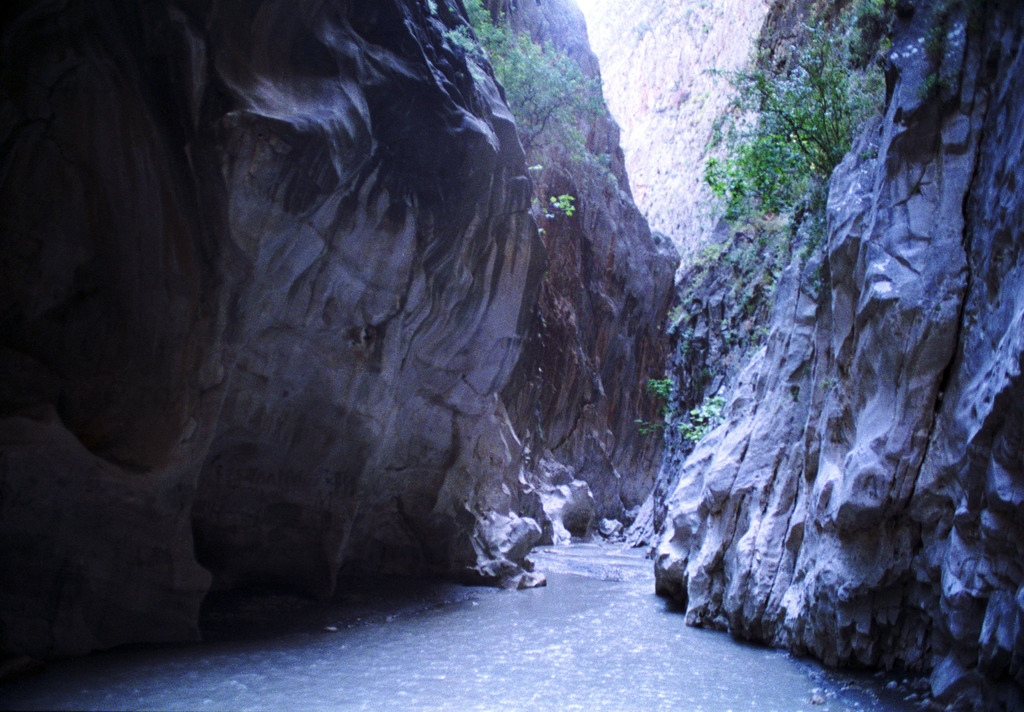Tree: (701, 0, 884, 221), (436, 0, 607, 230)
